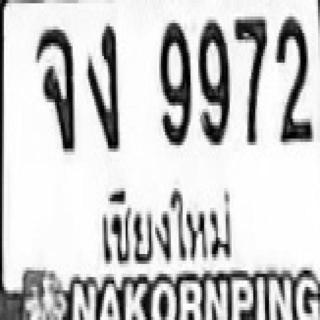A07: (85, 20, 119, 148)
A08: (33, 27, 75, 148)
N02: (275, 13, 310, 142)
N07: (232, 13, 265, 142)
N09: (157, 18, 190, 143), (196, 17, 228, 142)
P11: (90, 180, 240, 274)
